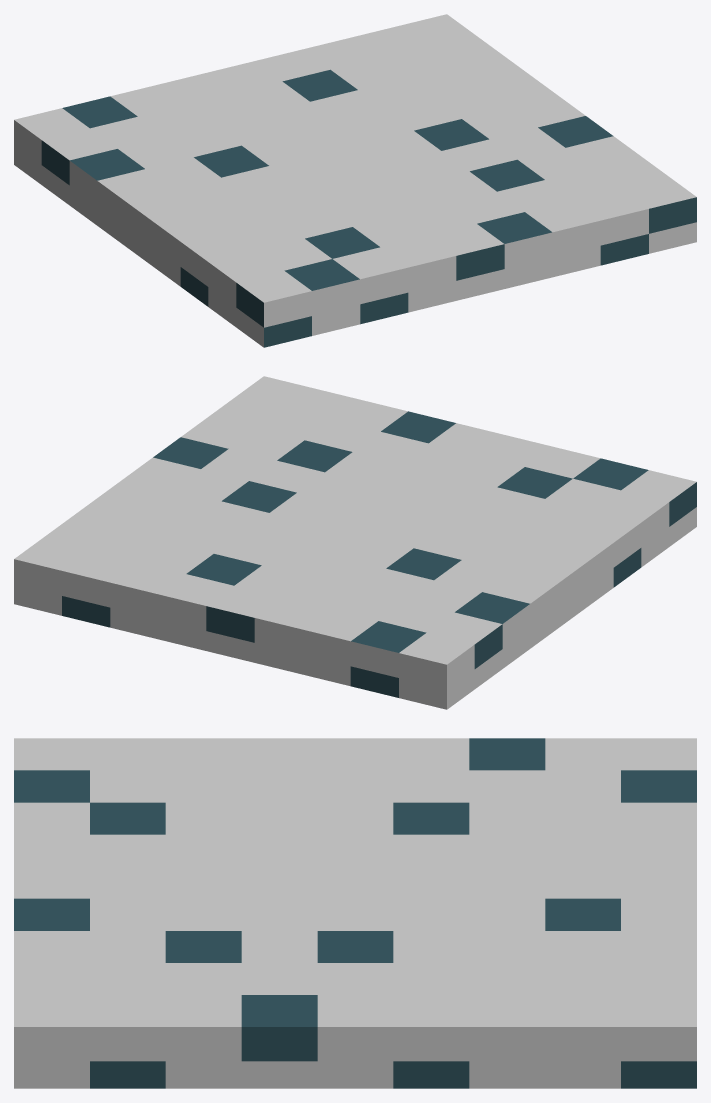
File: AzulejoGigante.fbx
The picture shows the model from 3 angles, top to bottom: view 1: azimuth 30°, elevation 25°; view 2: azimuth 150°, elevation 25°; view 3: azimuth 270°, elevation 25°; orthographic projection. The views are drawn at different scales.
Parts seen in each view (by area): view 1: AzulejoGigante; view 2: AzulejoGigante; view 3: AzulejoGigante.
Boxes of the visible parts, x1,y1,x2,y2 form: AzulejoGigante: [14, 14, 696, 347]; AzulejoGigante: [14, 376, 696, 709]; AzulejoGigante: [14, 738, 696, 1088].
Bounding box in the file's own units: 449 × 44.59 × 449.
